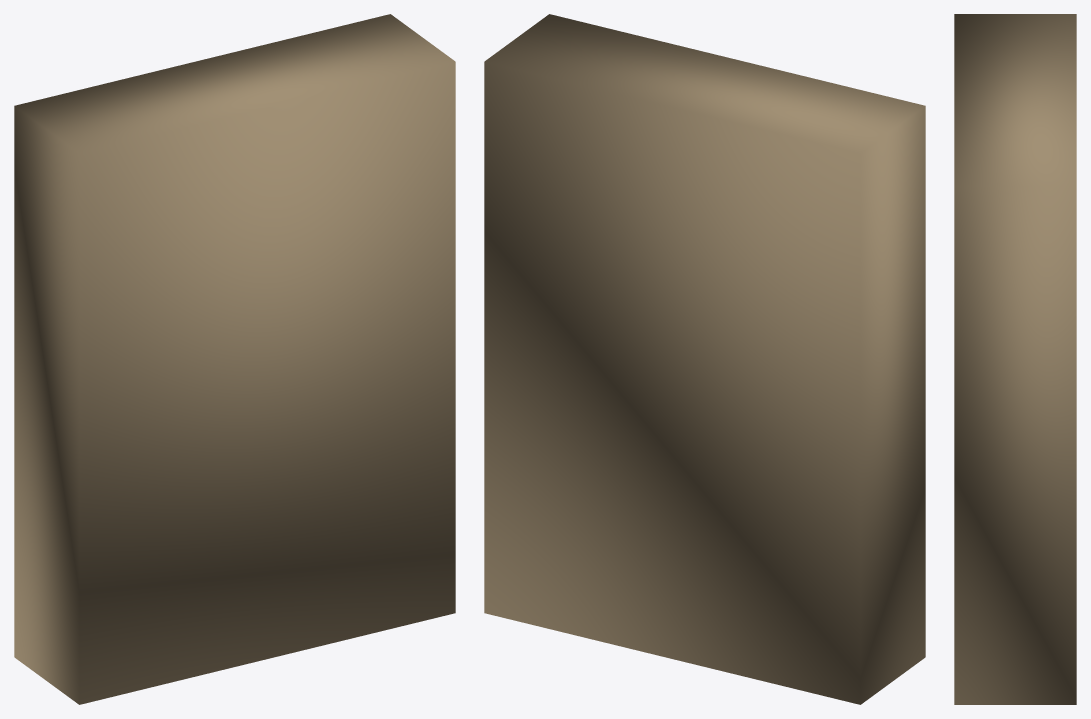
The model's file is furn_bookshelf.glb.
3 renders of one model, left to right at view 1: azimuth 30°, elevation 25°; view 2: azimuth 150°, elevation 25°; view 3: azimuth 270°, elevation 25°, orthographic. The views are drawn at different scales.
Visible parts, largest first — view 1: body; view 2: body; view 3: body.
Part boxes in pixels (left/top/right/bottom): body: left=14, top=14, right=455, bottom=704; body: left=484, top=14, right=925, bottom=704; body: left=954, top=14, right=1076, bottom=704.
Bounding box in the file's own units: 1 × 1.4 × 0.3.
